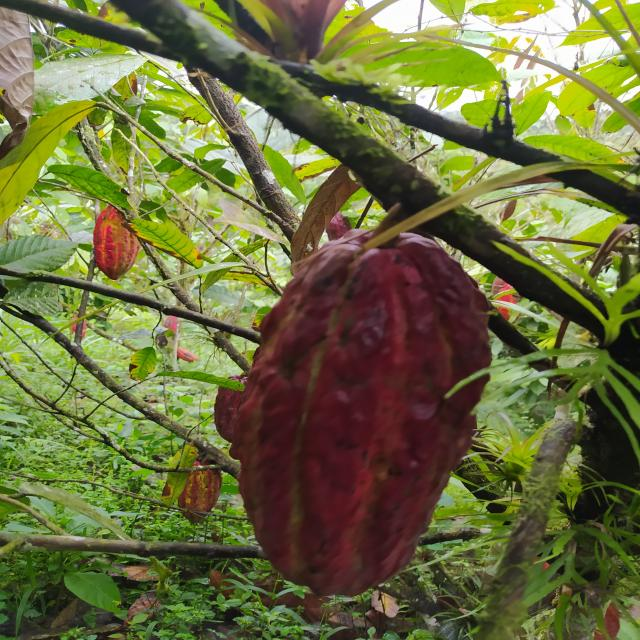Sana: (238, 227, 492, 597), (94, 204, 142, 281), (176, 459, 224, 523), (214, 376, 247, 443)
